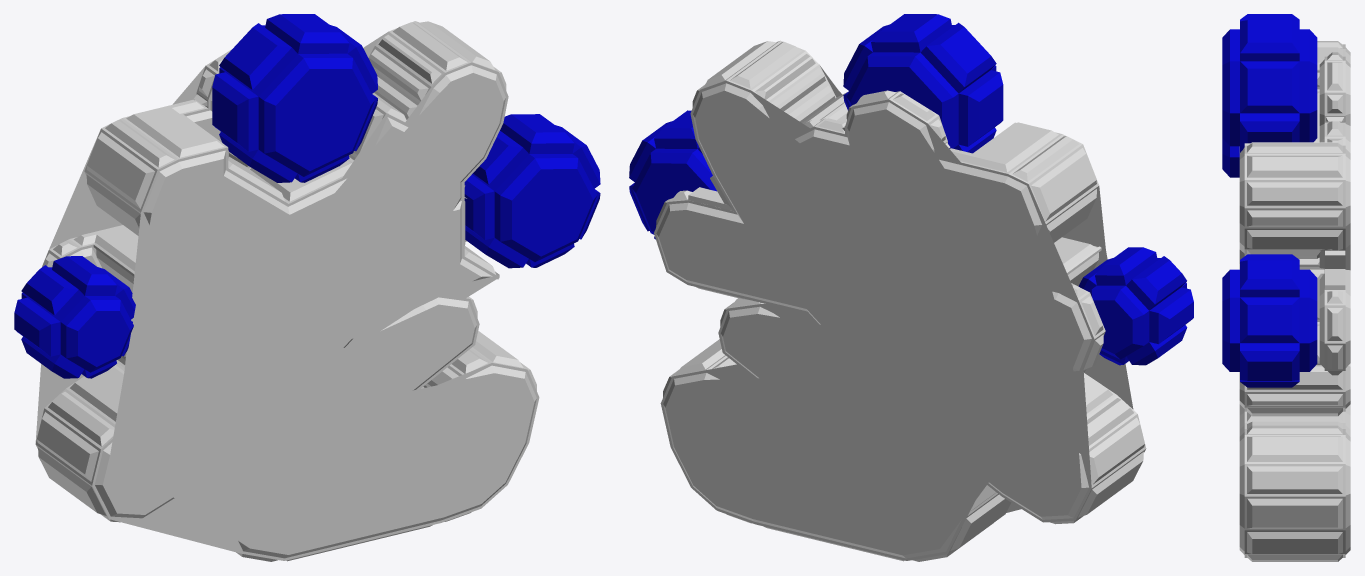
Rendered from Ch_China_老_01.fbx.
3 views of the same model, side by side, from view 1: azimuth 30°, elevation 25°; view 2: azimuth 150°, elevation 25°; view 3: azimuth 270°, elevation 25° (orthographic). The views are drawn at different scales.
Visible parts, largest first — view 1: sphere1; view 2: sphere1; view 3: sphere1.
Boxes of the visible parts, x1,y1,x2,y2 form: sphere1: (14, 14, 600, 561); sphere1: (629, 14, 1193, 561); sphere1: (1222, 14, 1350, 561).
Size of the model in its own units: 1.14 by 1.03 by 0.2541.
